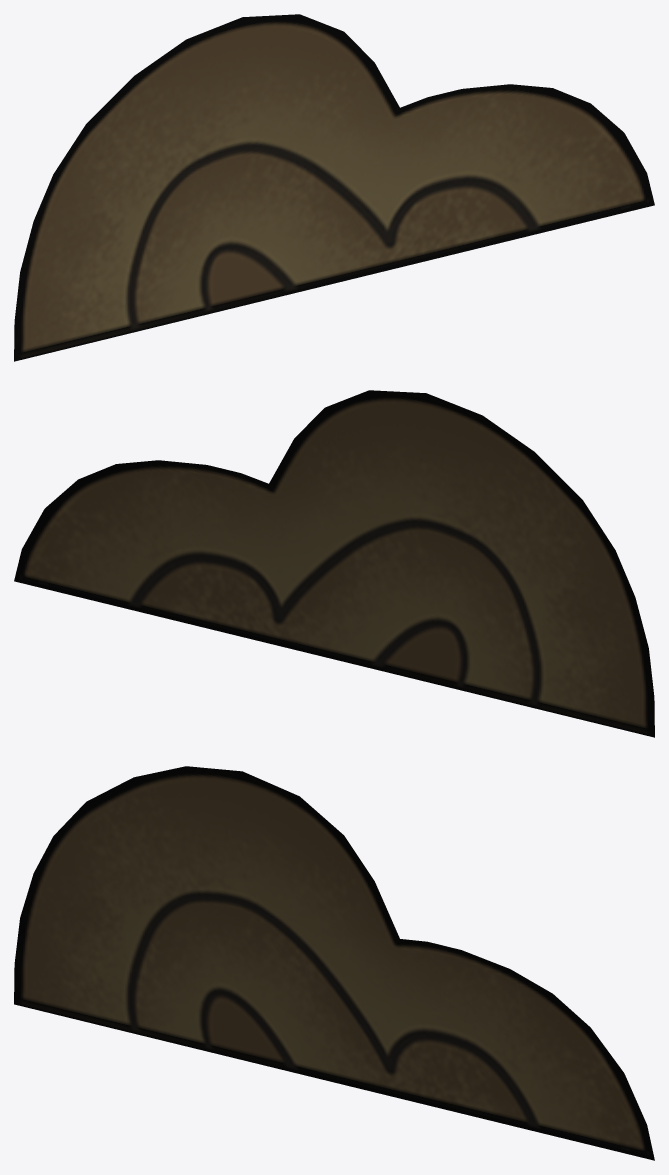
Rendered from bushC.fbx.
3 renders of one model, top to bottom at view 1: azimuth 30°, elevation 25°; view 2: azimuth 150°, elevation 25°; view 3: azimuth 330°, elevation 25°, orthographic.
Parts seen in each view (by area): view 1: bushC_; view 2: bushC_; view 3: bushC_.
Part boxes in pixels (box(x1,y1,x2,y2)): bushC_: box(14, 14, 654, 361); bushC_: box(14, 390, 654, 737); bushC_: box(14, 766, 654, 1160).
Size of the model in its own units: 99.87 by 43 by 7.63e-06.
